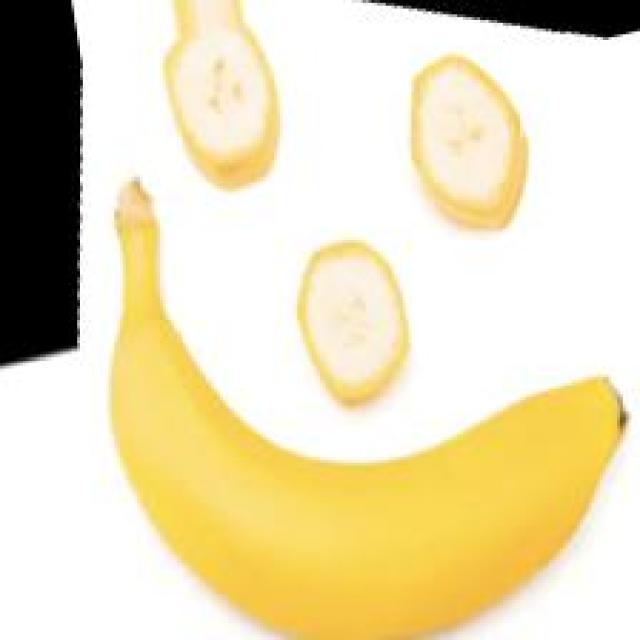banana: (80, 170, 639, 640)
